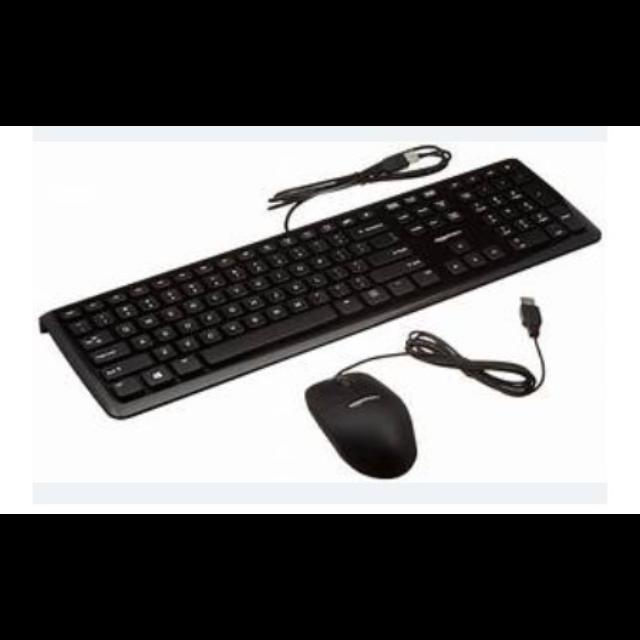Computer-Keyboard: (38, 159, 603, 422)
